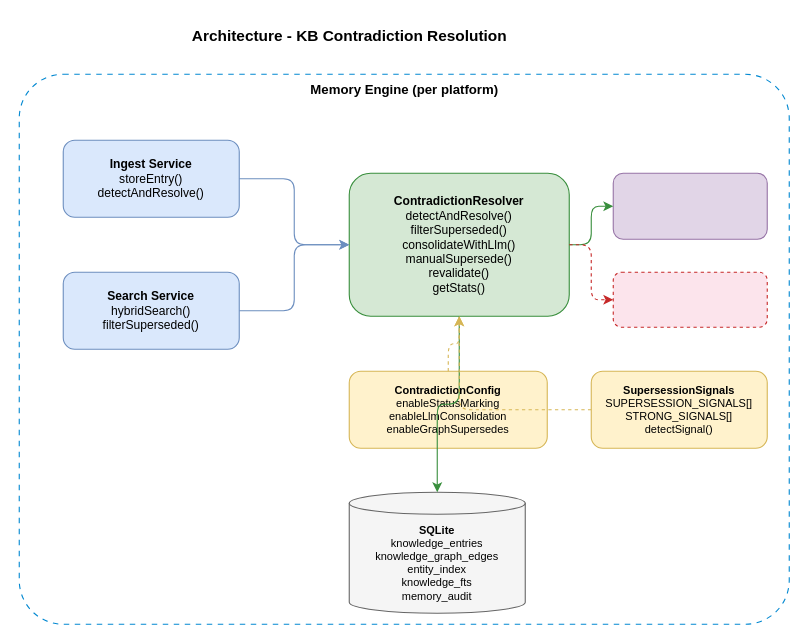
The diagram is 809 pixels wide and 644 high, and some of its shapes have lost their labels. The shapes that lost their labels are listed below. From the top down, each one's centre as x and y in pixels, then its label:
At (689,205): "GraphRepository addEdge() edgeExists()".
At (689,299): "LLM Service (External, Optional)".
